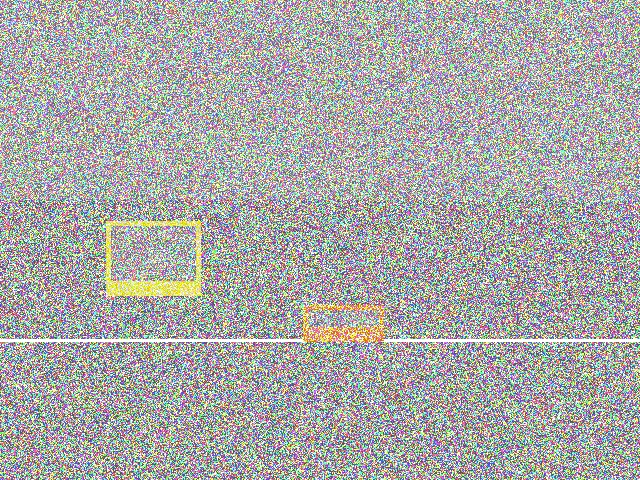car: (360, 324, 445, 449)
